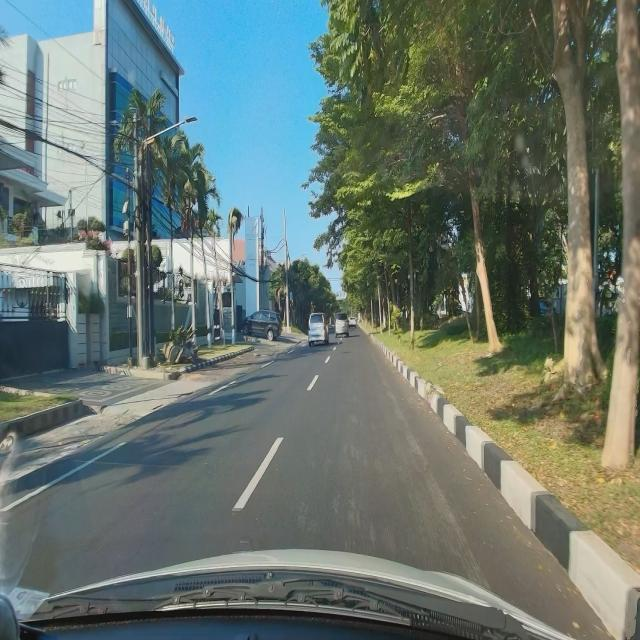car: (308, 312, 328, 346)
